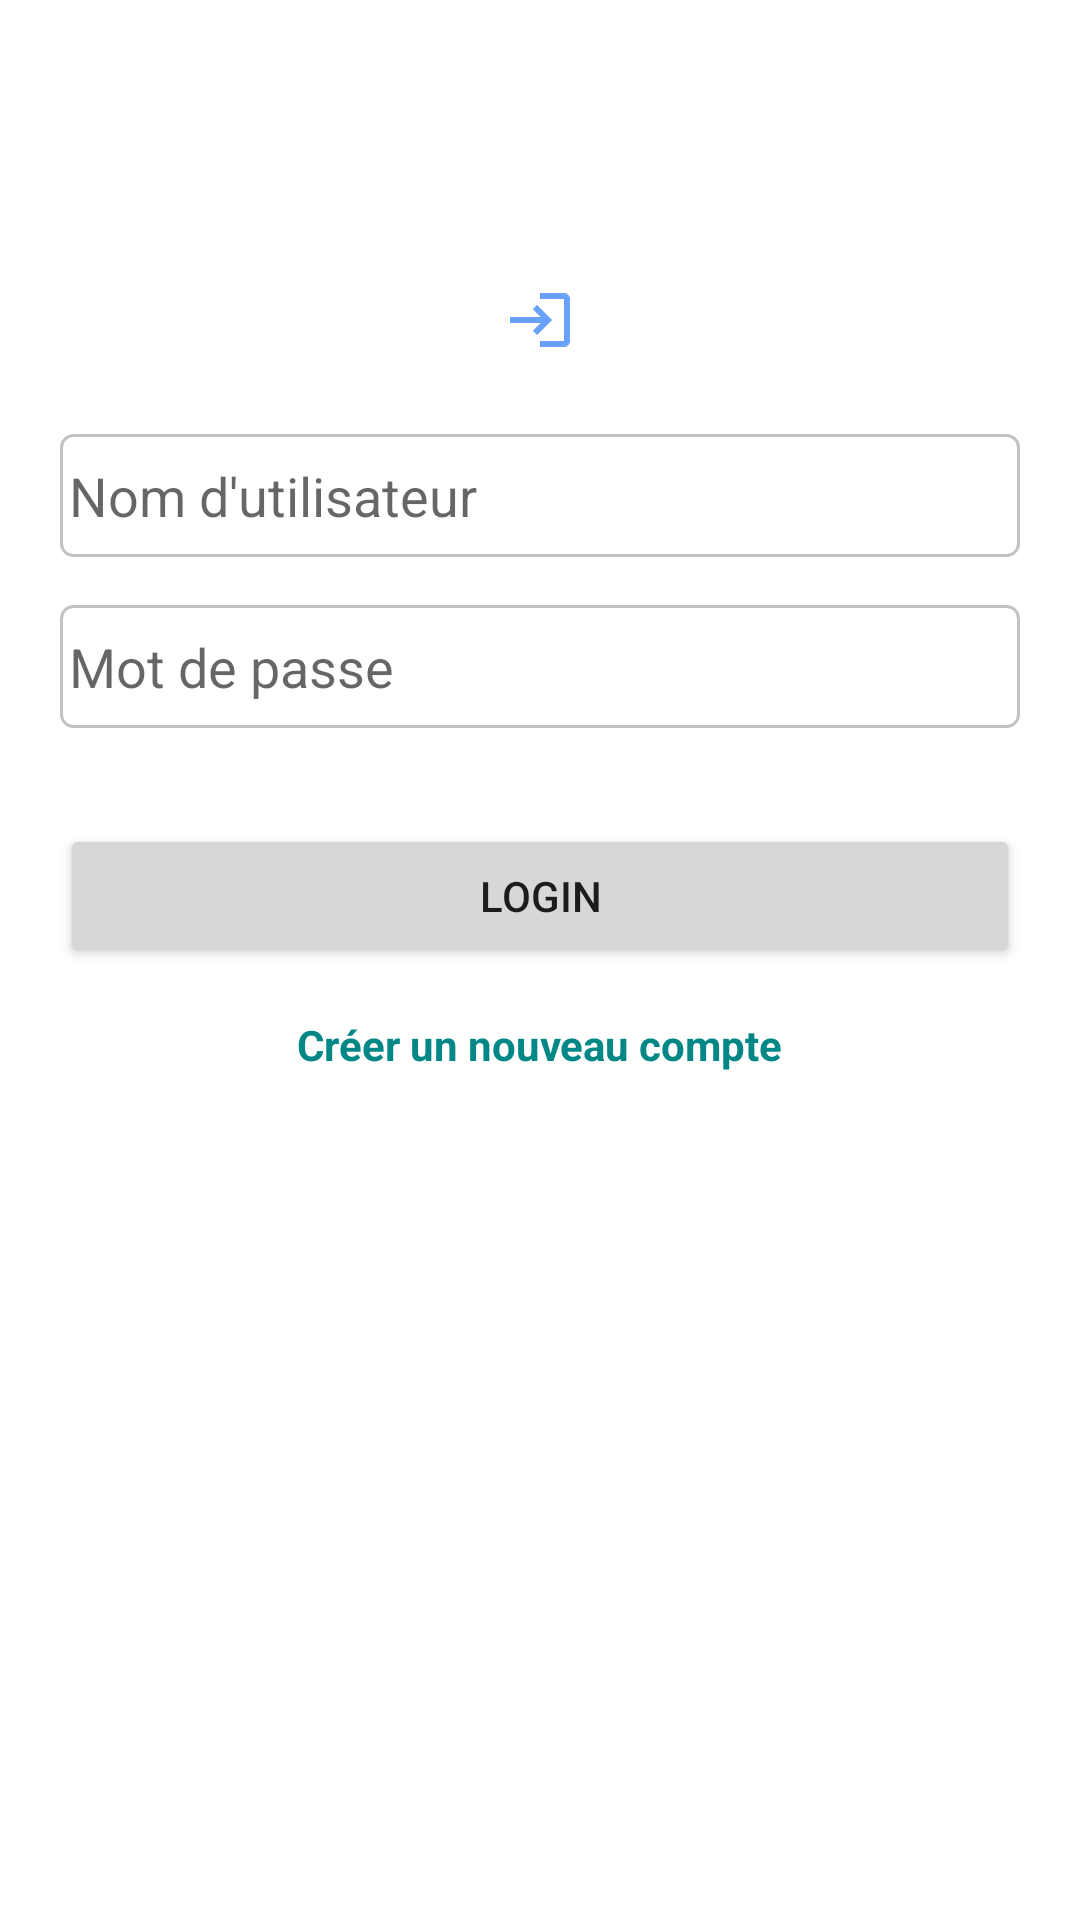

Icon click points for this 1080px x 1920px phone screenshot, format [x,y]:
login: [540,320]
